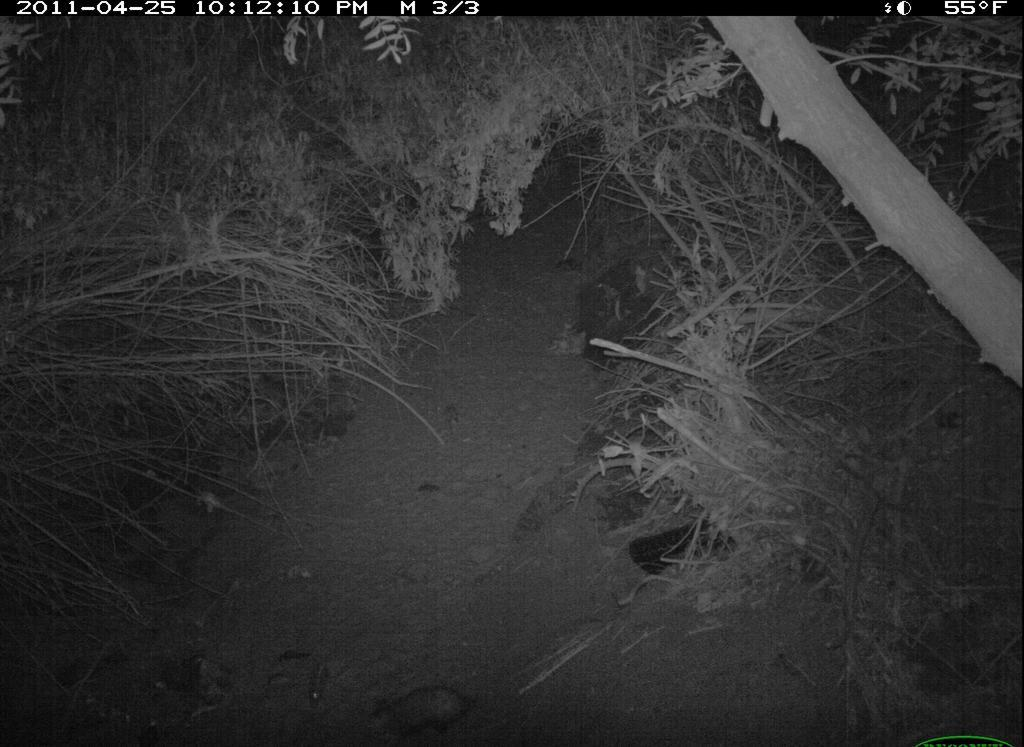opossum: (315, 665, 488, 745)
